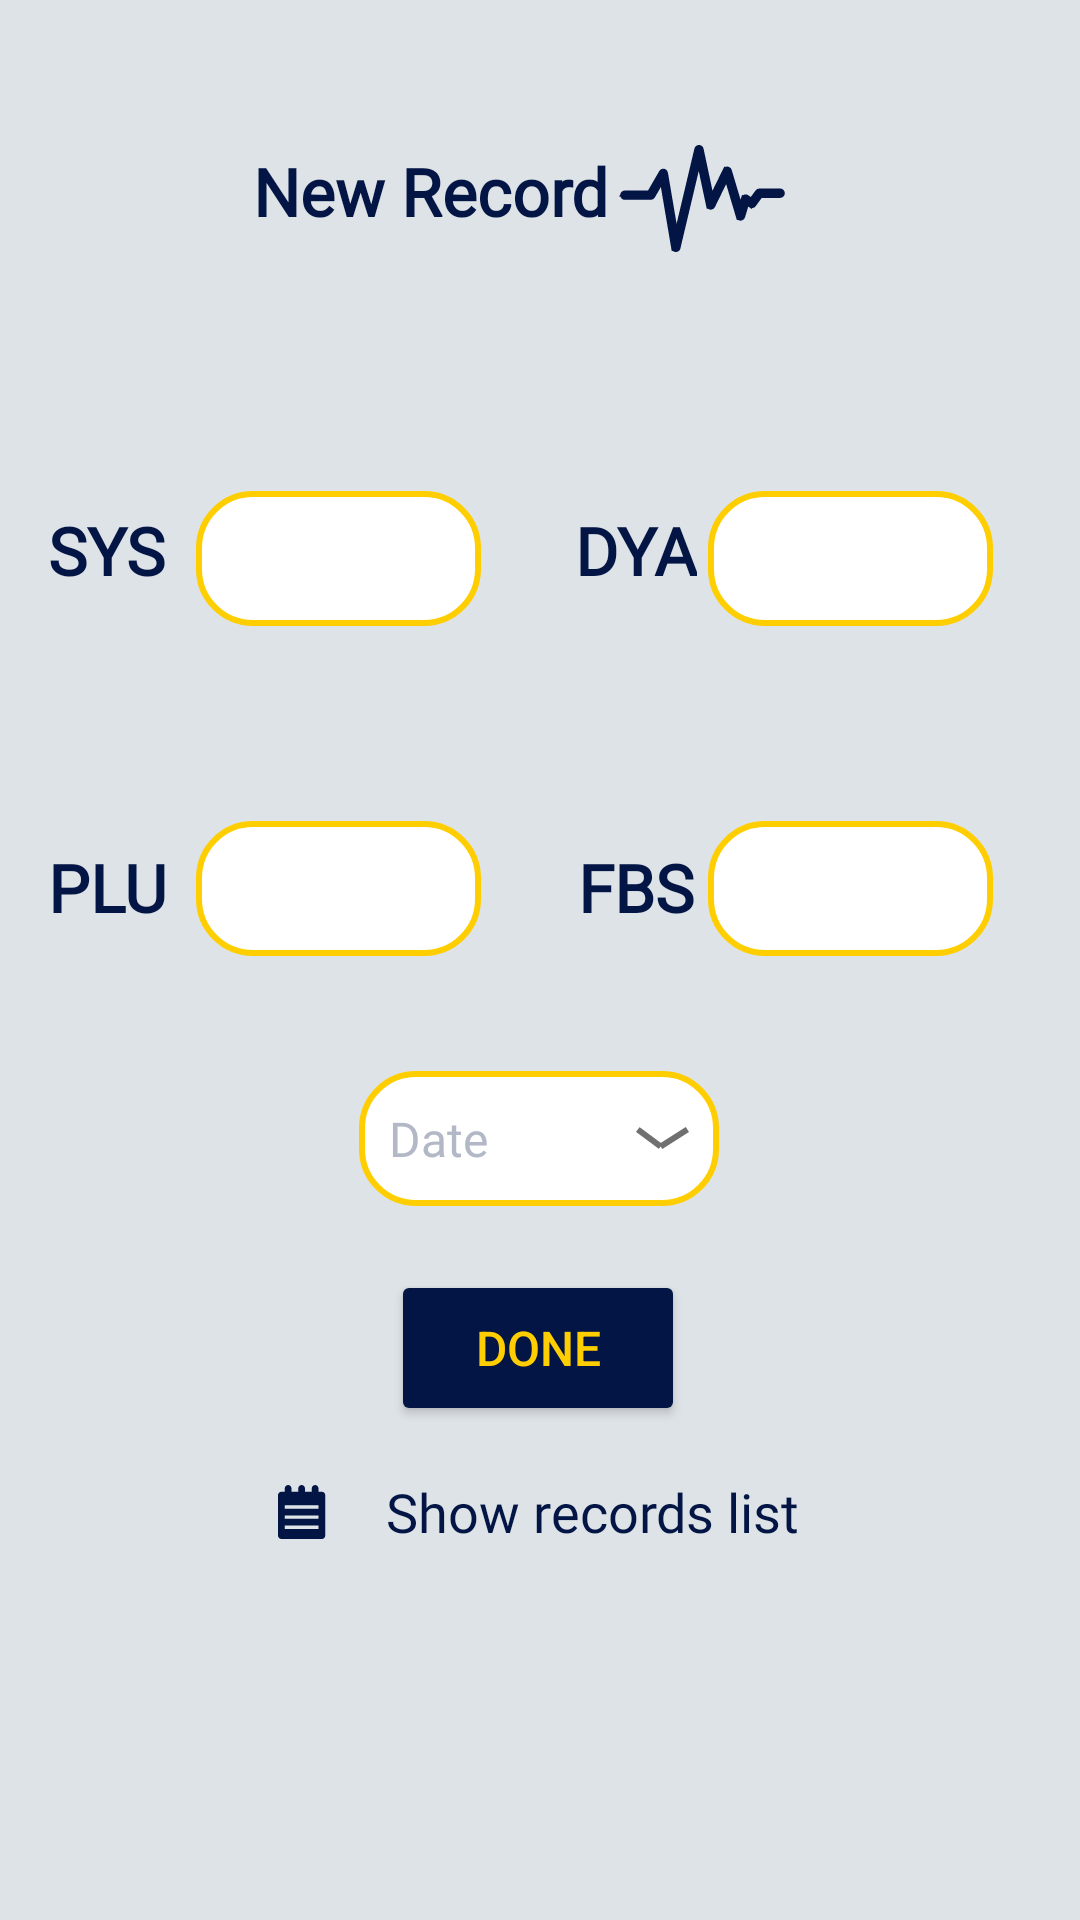

Icon click points for this 1080*1920 phone screenshot, format (x,y):
pulse: (702,198)
